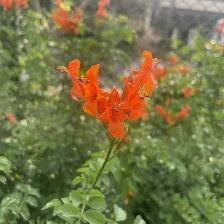honeysuckle: (61, 57, 108, 121)
